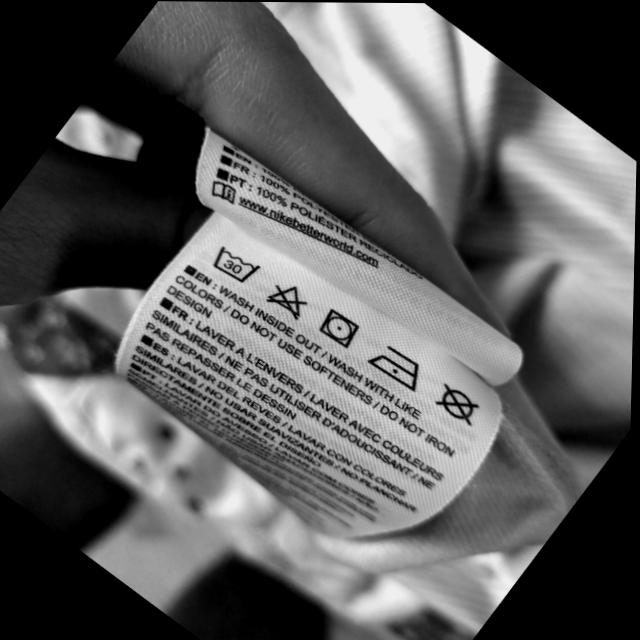30C: (214, 246, 263, 285)
DN_bleach: (266, 279, 311, 319)
DN_dry_clean: (436, 382, 481, 425)
iron_low: (368, 346, 423, 389)
tumble_dry_low: (319, 306, 364, 346)
